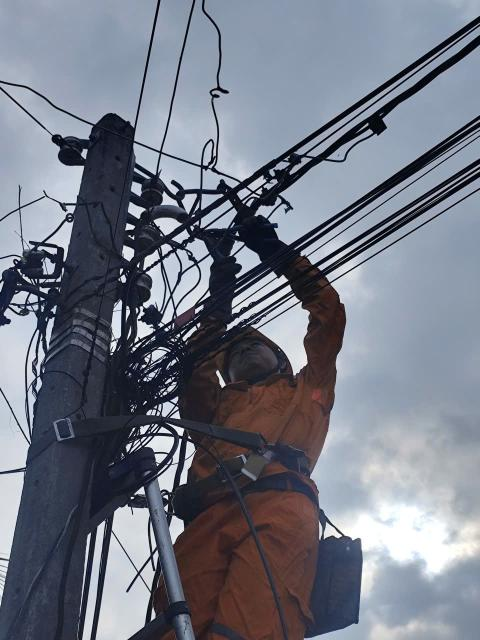gloves: (240, 199, 292, 273), (203, 251, 240, 317)
harness: (148, 418, 349, 518)
helmet: (214, 313, 300, 388)
